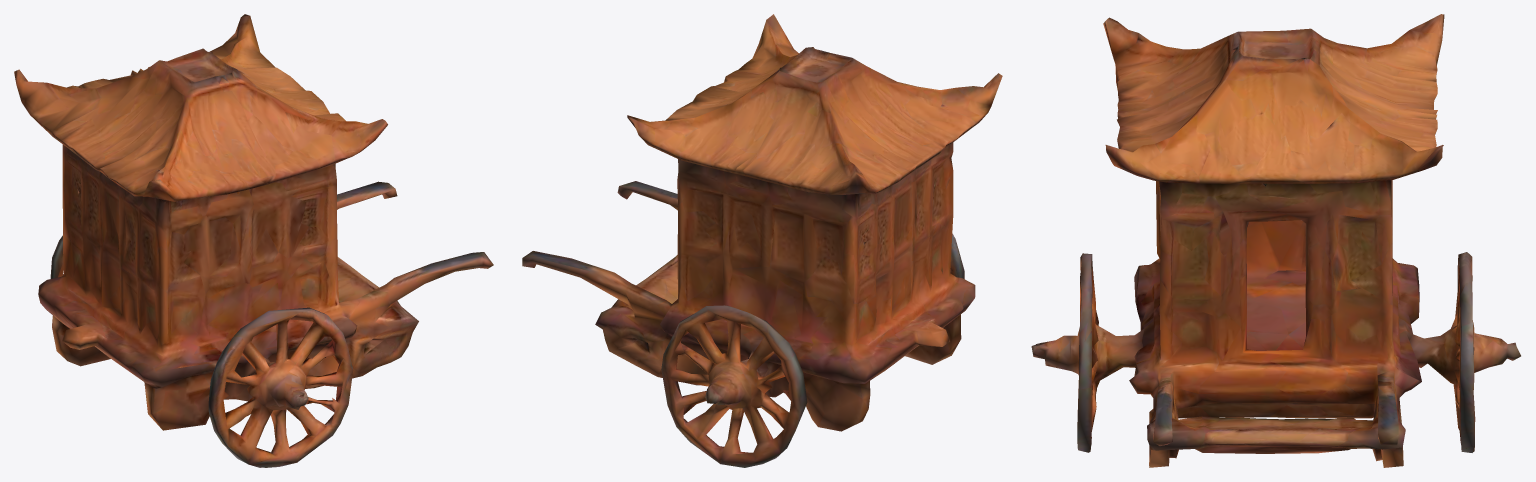
The model's file is lib_cart.far.glb.
3 views of the same model, side by side, from view 1: azimuth 30°, elevation 25°; view 2: azimuth 150°, elevation 25°; view 3: azimuth 270°, elevation 25° (orthographic). The views are drawn at different scales.
Size of the model in its own units: 1.96 by 1.72 by 1.88.
1 material, 1 textured.
